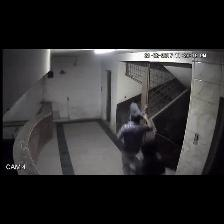person: (118, 113, 152, 174)
